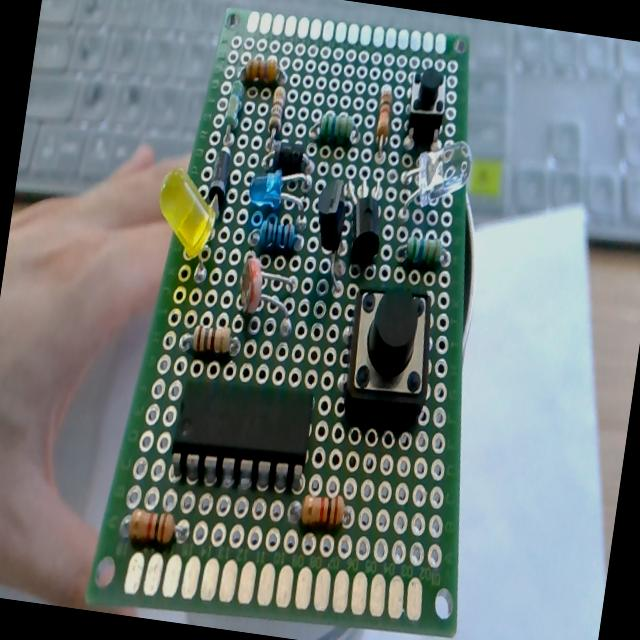IC: (165, 368, 316, 489)
cds: (235, 254, 300, 329)
diode: (268, 140, 308, 180), (206, 148, 232, 209)
led: (148, 163, 232, 297), (398, 131, 474, 218), (248, 162, 310, 215)
resistor: (180, 320, 243, 360), (256, 212, 302, 258), (128, 508, 177, 548), (372, 86, 396, 156), (302, 492, 346, 530), (317, 110, 358, 148), (404, 233, 443, 269), (244, 54, 282, 86), (225, 80, 246, 126), (268, 85, 287, 133)
switch: (339, 284, 439, 426), (406, 66, 450, 144)
transistor: (307, 175, 366, 292), (347, 193, 385, 266)
